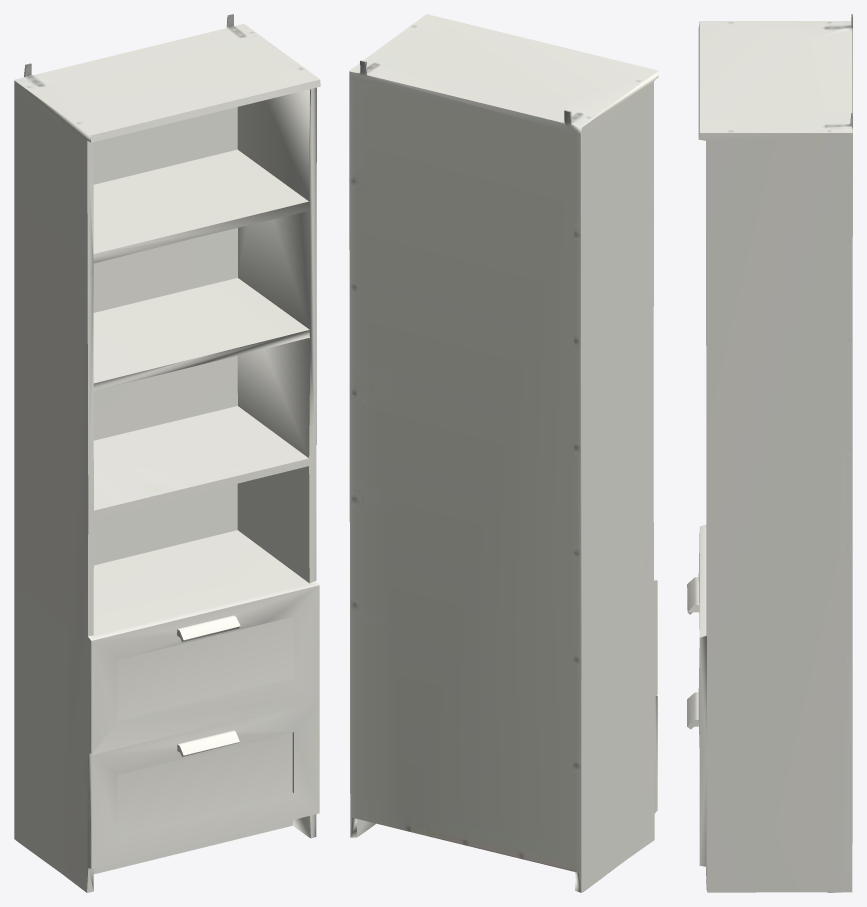
3 views of the same model, side by side, from view 1: azimuth 30°, elevation 25°; view 2: azimuth 150°, elevation 25°; view 3: azimuth 270°, elevation 25° (orthographic).
Visible parts, largest first — view 1: ProcessedMeshNode; view 2: ProcessedMeshNode; view 3: ProcessedMeshNode.
Boxes of the visible parts, <box> form: ProcessedMeshNode: <box>14,14,320,892</box>; ProcessedMeshNode: <box>349,14,658,892</box>; ProcessedMeshNode: <box>687,14,852,892</box>.
Size of the model in its own units: 0.6031 by 1.94 by 0.3762.
Materials: 1 (1 with a texture image).
